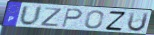O: (84, 10, 105, 30)
P: (61, 8, 84, 28)
U: (18, 4, 44, 27), (127, 11, 151, 33)
Z: (39, 7, 63, 28), (104, 11, 127, 31)
